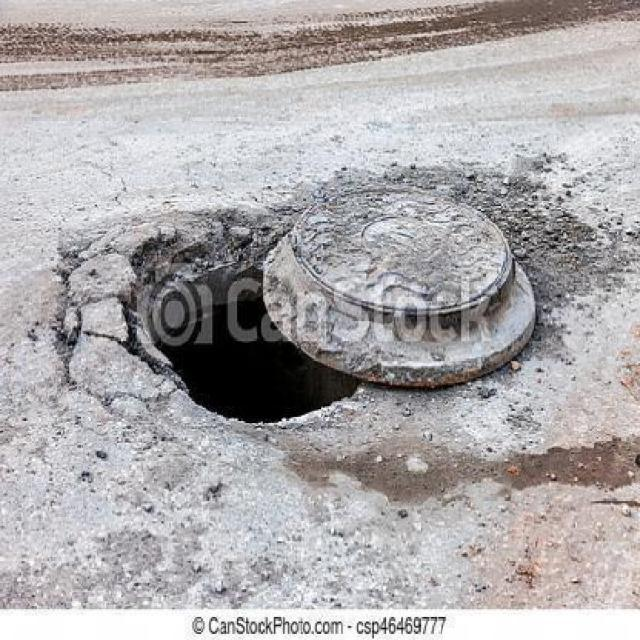Open Manhole: (91, 178, 535, 434)
